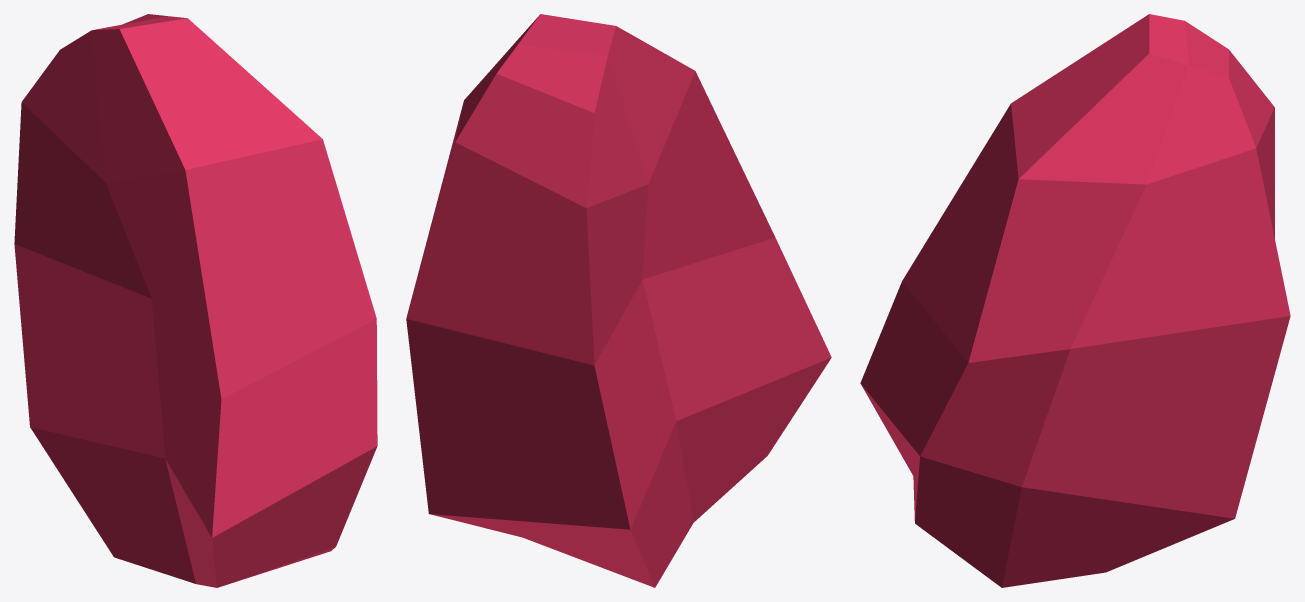
Rendered from Left_lung.glb.
The picture shows the model from 3 angles, left to right: view 1: azimuth 30°, elevation 25°; view 2: azimuth 150°, elevation 25°; view 3: azimuth 270°, elevation 25°; orthographic projection. The views are drawn at different scales.
Parts seen in each view (by area): view 1: Cube.001; view 2: Cube.001; view 3: Cube.001.
Boxes of the visible parts, x1,y1,x2,y2 form: Cube.001: (14,14,377,587); Cube.001: (406,14,831,587); Cube.001: (860,14,1290,587).
Bounding box in the file's own units: 3.89 × 8.06 × 6.09.
1 material, 1 textured.
